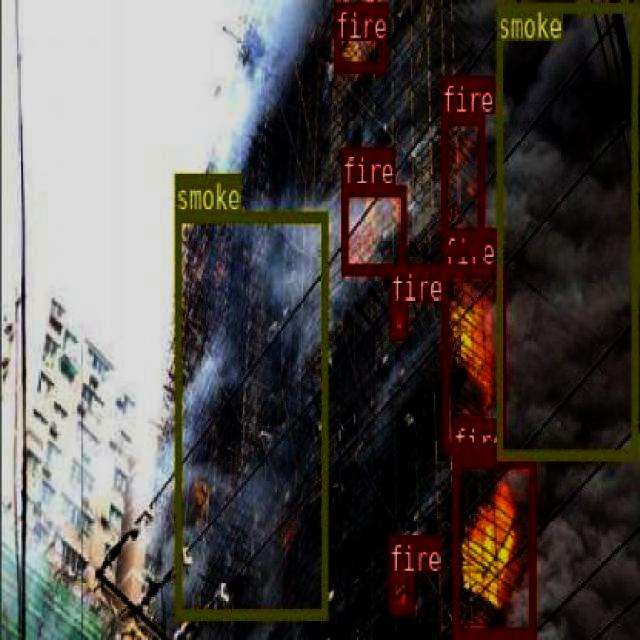fire: (452, 456, 534, 636), (441, 264, 504, 452), (440, 112, 482, 254), (340, 185, 405, 272), (332, 1, 385, 70), (388, 573, 412, 613), (388, 300, 407, 336)
smoke: (496, 2, 636, 460), (175, 210, 328, 618)
